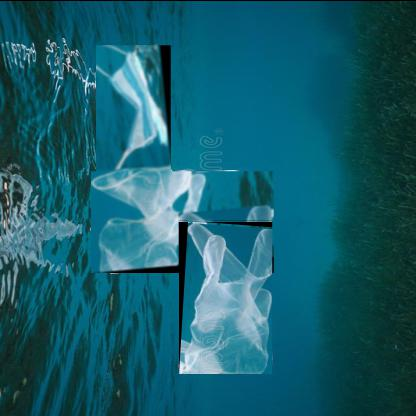waste: (91, 169, 275, 272), (179, 218, 273, 372), (96, 43, 172, 180)
